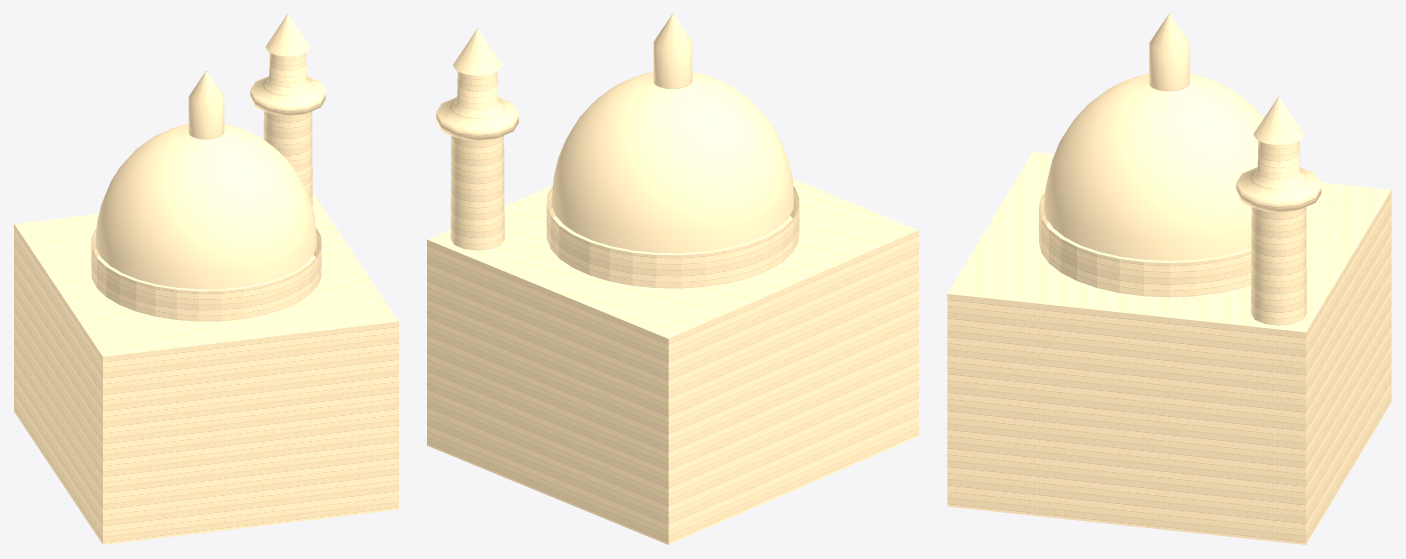
The model's file is landmark-juma-mosque.glb.
The picture shows the model from 3 angles, left to right: view 1: azimuth 30°, elevation 25°; view 2: azimuth 150°, elevation 25°; view 3: azimuth 270°, elevation 25°; orthographic projection. The views are drawn at different scales.
Visible parts, largest first — view 1: juma-mosque; view 2: juma-mosque; view 3: juma-mosque.
Boxes of the visible parts, bbox=[...] form: juma-mosque: bbox=[14, 14, 398, 544]; juma-mosque: bbox=[427, 14, 918, 544]; juma-mosque: bbox=[947, 14, 1391, 544].
Bounding box in the file's own units: 25.1 × 28.49 × 26.05.
Materials: 2 (1 with a texture image).
